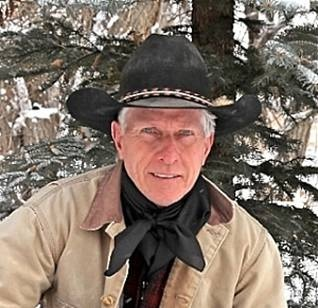bad: (126, 106, 215, 196)
